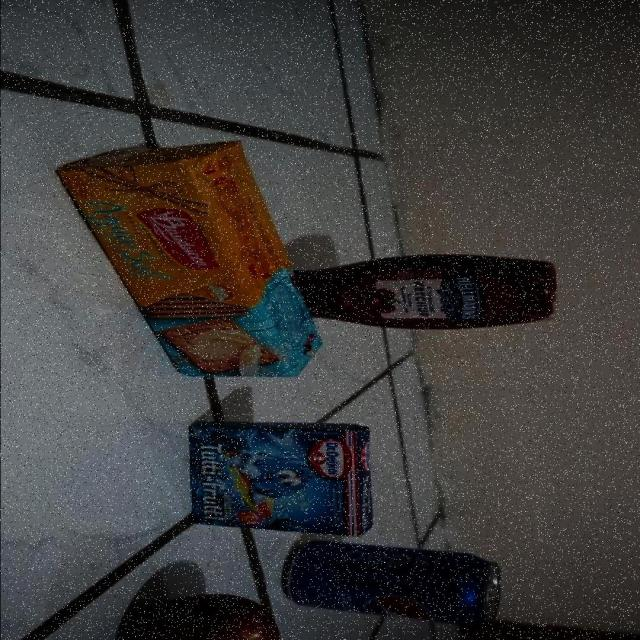Apple: (126, 590, 283, 640)
Cracker: (52, 141, 322, 379)
Gelatine: (185, 423, 371, 538)
Ketchup: (325, 256, 560, 331)
SodaCan: (285, 544, 508, 624)
